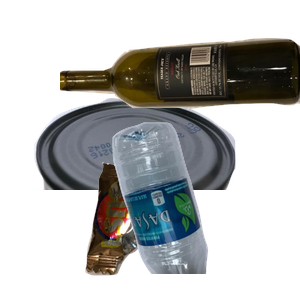glass: (60, 36, 300, 147)
metal: (16, 96, 244, 276)
plastic: (110, 120, 300, 300)
trash: (83, 160, 233, 300)
